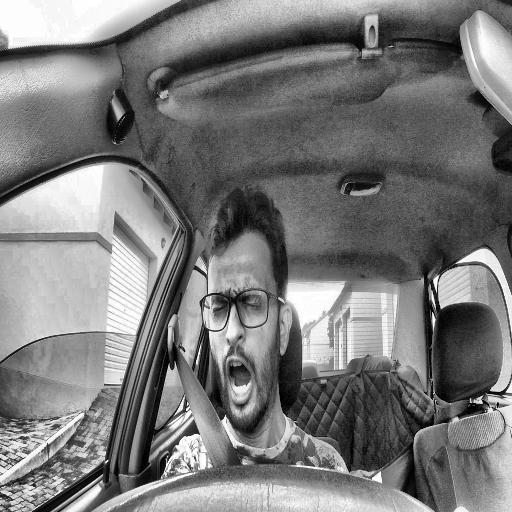drowsy: (199, 184, 292, 429)
